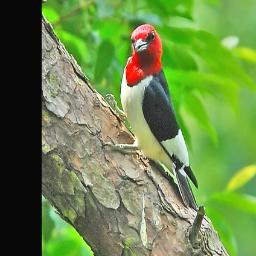Woodpecker: (106, 22, 204, 210)
